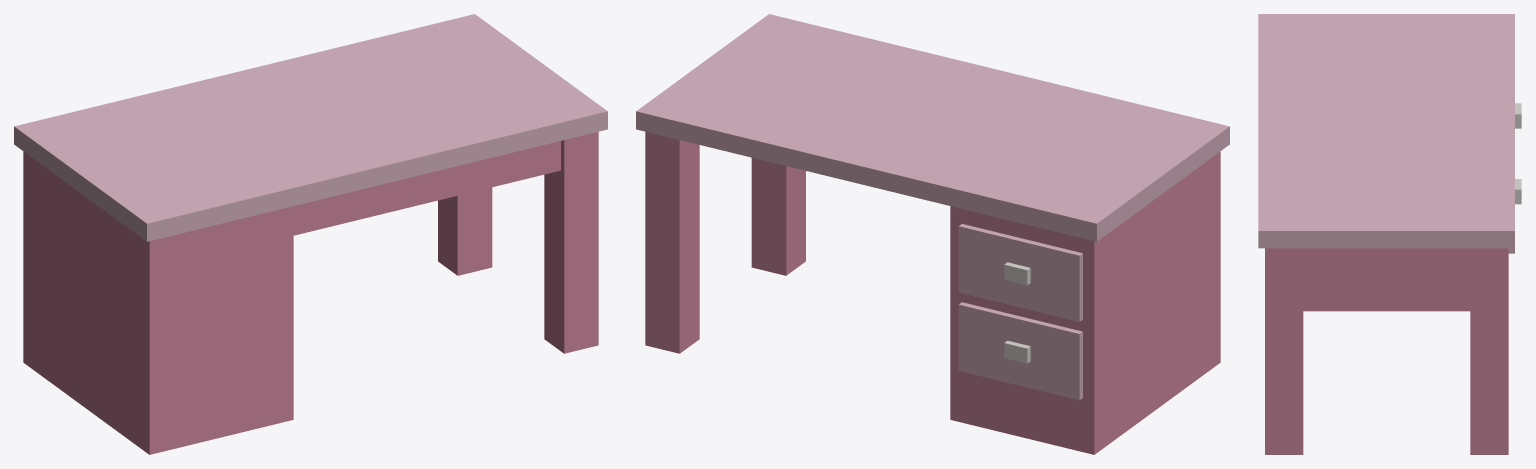
The model's file is ncb-desk-pink.glb.
3 renders of one model, left to right at view 1: azimuth 30°, elevation 25°; view 2: azimuth 150°, elevation 25°; view 3: azimuth 270°, elevation 25°, orthographic. The views are drawn at different scales.
Parts seen in each view (by area): view 1: box-prop; view 2: box-prop; view 3: box-prop.
Part boxes in pixels (left/top/right/bottom): box-prop: left=14, top=14, right=607, bottom=454; box-prop: left=636, top=14, right=1229, bottom=454; box-prop: left=1258, top=14, right=1521, bottom=454.
Size of the model in its own units: 1.6 by 0.78 by 0.82.
